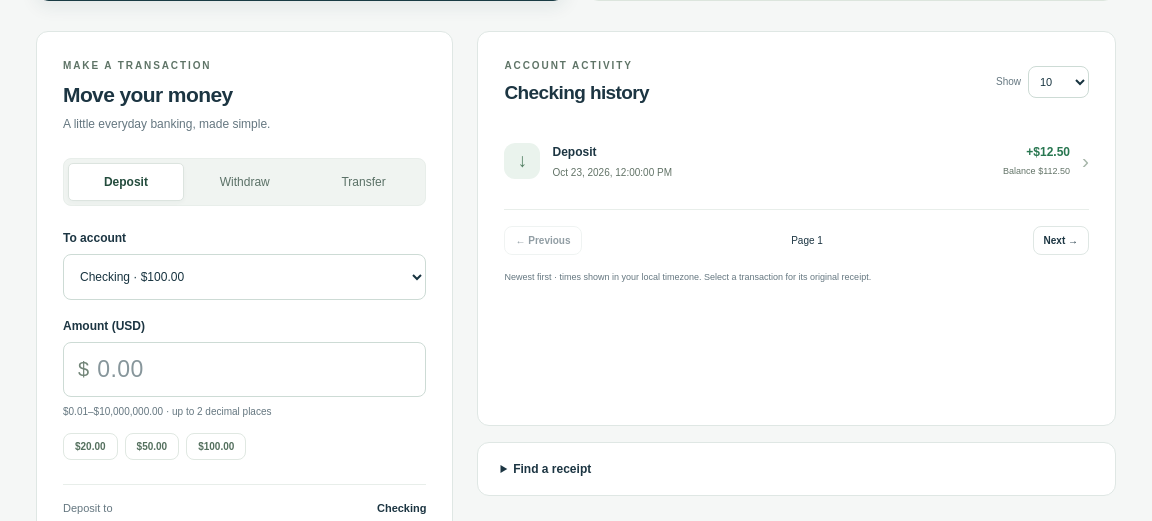
Scenario: executes transfer with the correct account fields
(page scrolled)
Click the tab "Transfer" at (364, 182), box [306,163,422,201]
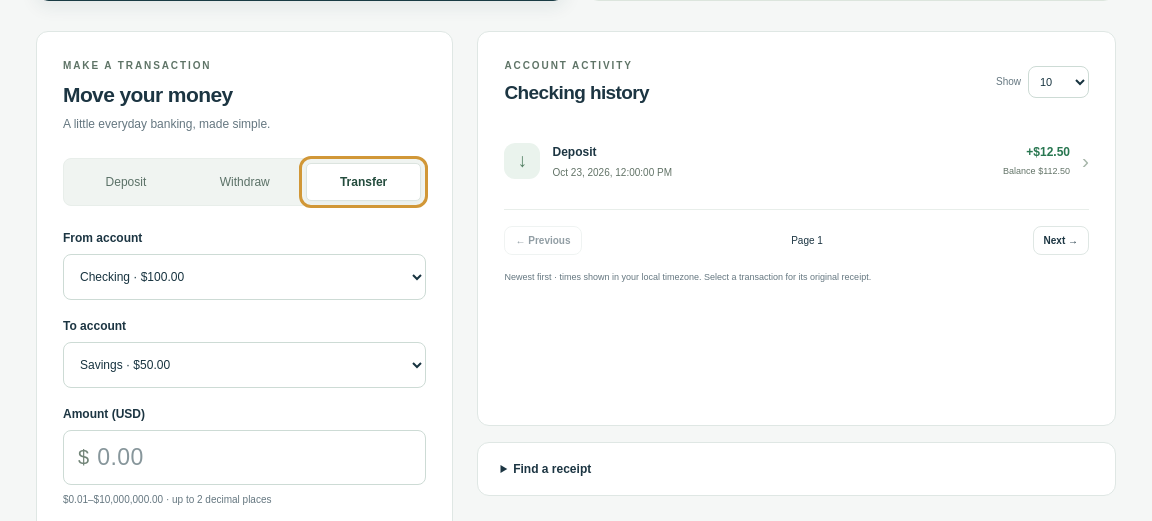
Type "10.01" into the field labelled "Amount (USD)" at (261, 457), box [97,431,426,484]
(page scrolled)
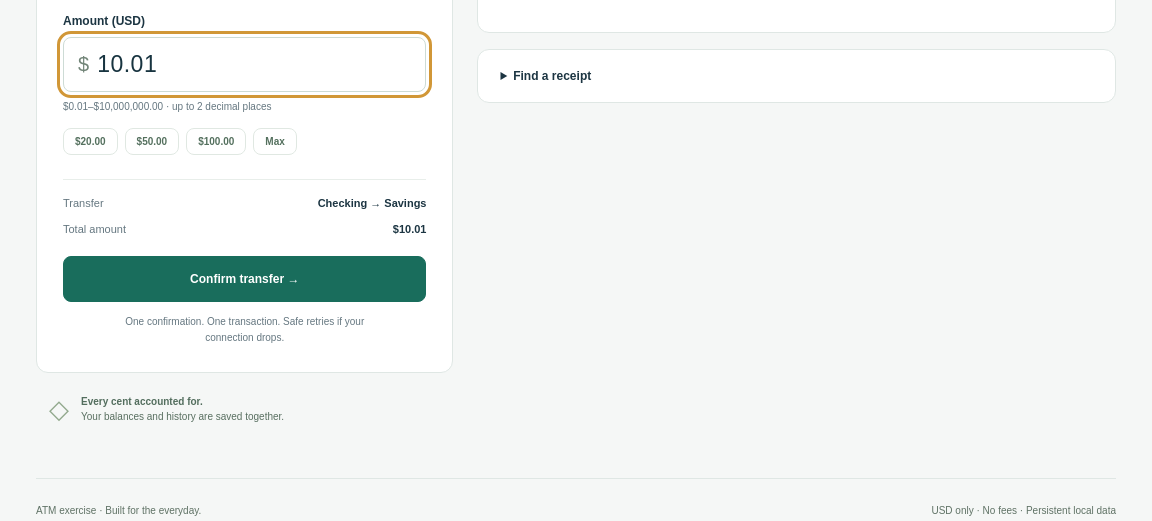
Click the button "Confirm transfer →" at (245, 279), box [63,256,426,302]
(page scrolled)
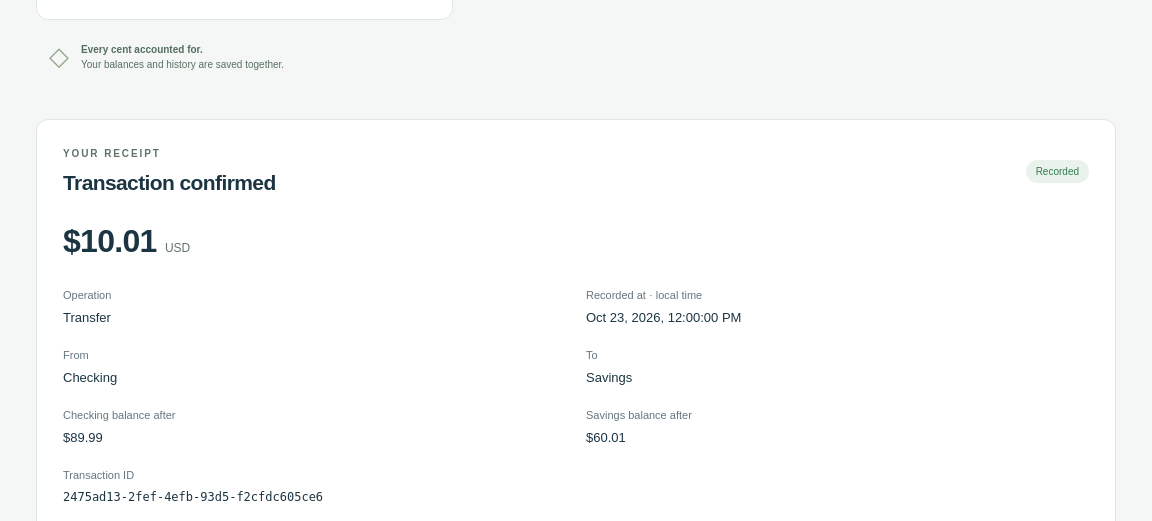
Result: the heading "Transaction confirmed" is shown at [63,169,276,196]
